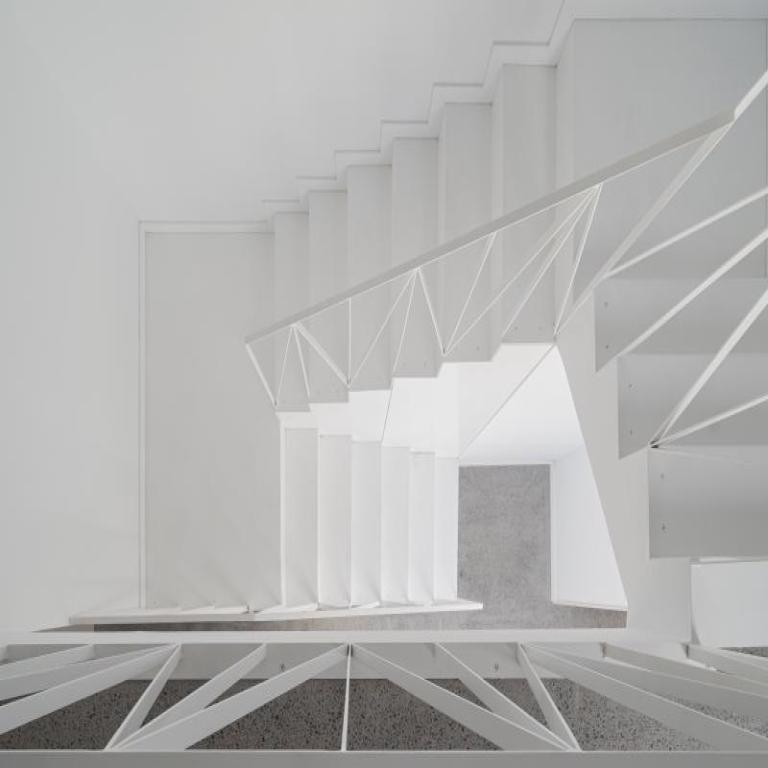white-walls: (37, 25, 433, 586)
